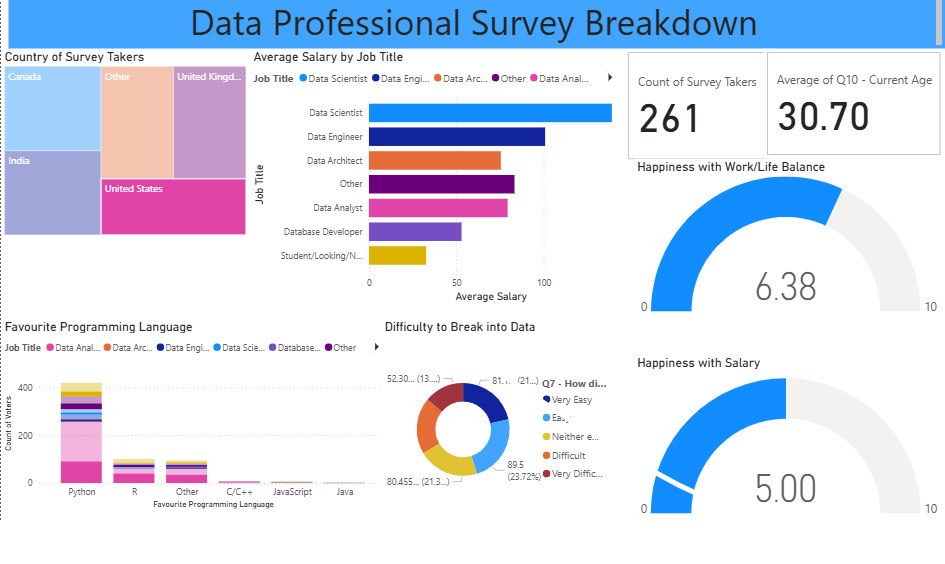

Layout of this report page (visuals, bound fields, positions):
{"tool":"powerbi","page":{"name":"Page 1","canvas":[1280,720],"ordinal":0},"visuals":[{"type":"textbox","box":[9.6,0,1270.7,72.7],"z":0},{"type":"cardVisual","fields":{"Data":["Count(Data Professional Survey.Unique ID)"]},"box":[845.8,72.9,203.4,155.9],"z":1000},{"type":"cardVisual","fields":{"Data":["Avg(Data Professional Survey.Q10 - Current Age)"]},"box":[1033.9,72.9,245.8,149.2],"z":2000},{"type":"barChart","title":"Average Salary by Job Title","fields":{"Category":["Data Professional Survey.Q1 - Which Title Best Fits your Current Role?.1"],"Y":["Avg(Data Professional Survey.Average Salary)"],"Series":["Data Professional Survey.Q1 - Which Title Best Fits your Current Role?.1"]},"box":[337.3,72.9,508.5,349.2],"z":3000},{"type":"columnChart","title":"Favourite Programming Language","fields":{"Category":["Data Professional Survey.Q5 - Favorite Programming Language.1"],"Y":["CountNonNull(Data Professional Survey.Unique ID)"],"Series":["Data Professional Survey.Q1 - Which Title Best Fits your Current Role?.1"]},"box":[0,439,528.8,262.7],"z":4000},{"type":"treemap","title":"Country of Survey Takers","fields":{"Group":["Data Professional Survey.Q11 - Which Country do you live in?.1"],"Values":["Count(Data Professional Survey.Q11 - Which Country do you live in?.1)"]},"box":[0,72.9,337.3,257.6],"z":4001},{"type":"gauge","title":"Happiness with Work/Life Balance","fields":{"Y":["Avg(Data Professional Survey.Q6 - How Happy are you in your Current Position with the following? (Work/Life Balance))"],"MinValue":["Min(Data Professional Survey.Q6 - How Happy are you in your Current Position with the following? (Work/Life Balance))"],"MaxValue":["Max(Data Professional Survey.Q6 - How Happy are you in your Current Position with the following? (Work/Life Balance))1"]},"box":[857.6,222,422,216.9],"z":4002},{"type":"gauge","title":"Happiness with Salary","fields":{"Y":["Avg(Data Professional Survey.Q6 - How Happy are you in your Current Position with the following? (Salary))"],"MinValue":["Min(Data Professional Survey.Q6 - How Happy are you in your Current Position with the following? (Salary))"],"MaxValue":["Max(Data Professional Survey.Q6 - How Happy are you in your Current Position with the following? (Salary))"]},"box":[857.6,488.1,422,232.2],"z":4003},{"type":"donutChart","title":"Difficulty to Break into Data","fields":{"Category":["Data Professional Survey.Q7 - How difficult was it for you to break into Data?"],"Y":["Avg(Data Professional Survey.Average Salary)"]},"box":[515.3,439,315.3,281.4],"z":4004}]}

Visuals, with their boxes on the page's 1280x720 design canvas (x1, y1, x2, y2). These are canvas units, not pixel positions in the 945x564 screenshot, which may show the page scaled, cropped or inside an application window:
textbox: rect(10, 0, 1280, 73)
cardVisual - Count(Data Professional Survey.Unique ID): rect(846, 73, 1049, 229)
cardVisual - Avg(Data Professional Survey.Q10 - Current Age): rect(1034, 73, 1280, 222)
"Average Salary by Job Title" barChart: rect(337, 73, 846, 422)
"Favourite Programming Language" columnChart: rect(0, 439, 529, 702)
"Country of Survey Takers" treemap: rect(0, 73, 337, 330)
"Happiness with Work/Life Balance" gauge: rect(858, 222, 1280, 439)
"Happiness with Salary" gauge: rect(858, 488, 1280, 720)
"Difficulty to Break into Data" donutChart: rect(515, 439, 831, 720)
